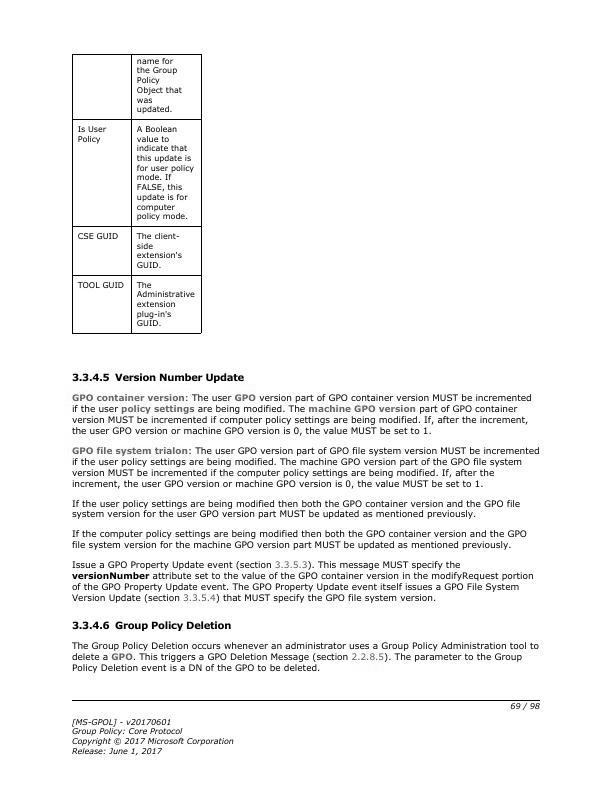table: (71, 53, 202, 335)
text: (69, 444, 543, 491), (70, 557, 536, 603), (70, 392, 535, 436), (71, 640, 540, 673), (69, 527, 528, 551), (69, 498, 521, 522), (70, 714, 238, 757), (71, 618, 233, 632), (71, 372, 245, 384)
